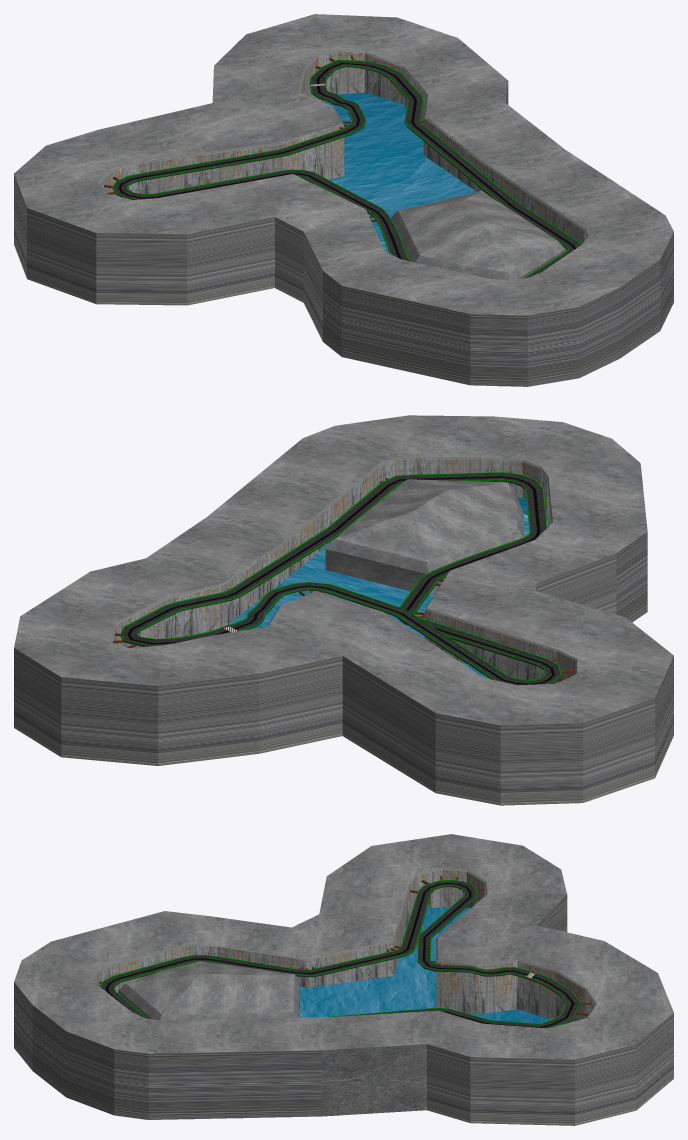
The model's file is track4boi.fbx.
3 views of the same model, one above another, from view 1: azimuth 30°, elevation 25°; view 2: azimuth 150°, elevation 25°; view 3: azimuth 270°, elevation 25° (orthographic). The views are drawn at different scales.
Parts seen in each view (by area): view 1: track_terrain, track, water_terrain; view 2: track_terrain, track, water_terrain; view 3: track_terrain, track, water_terrain.
Part boxes in pixels (box(x1,y1,x2,y2)): track_terrain: box(14, 14, 673, 386); track: box(112, 59, 580, 278); water_terrain: box(324, 92, 476, 252); track_terrain: box(14, 415, 673, 805); track: box(120, 472, 561, 685); water_terrain: box(192, 497, 548, 678); track_terrain: box(14, 834, 673, 1125); track: box(100, 879, 580, 1028); water_terrain: box(299, 907, 551, 1023).
Size of the model in its own units: 63984 by 16322 by 79086.
